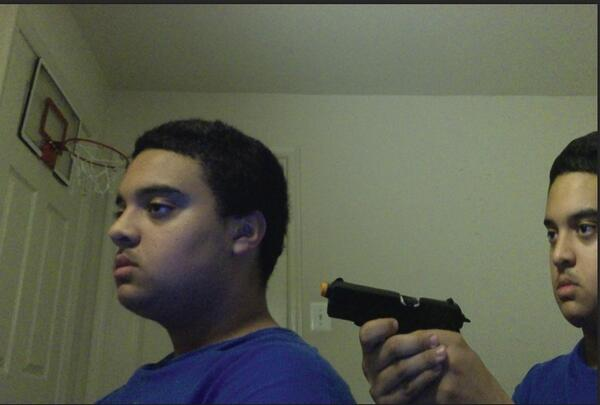without_mask: (109, 171, 201, 299), (545, 186, 598, 316)
